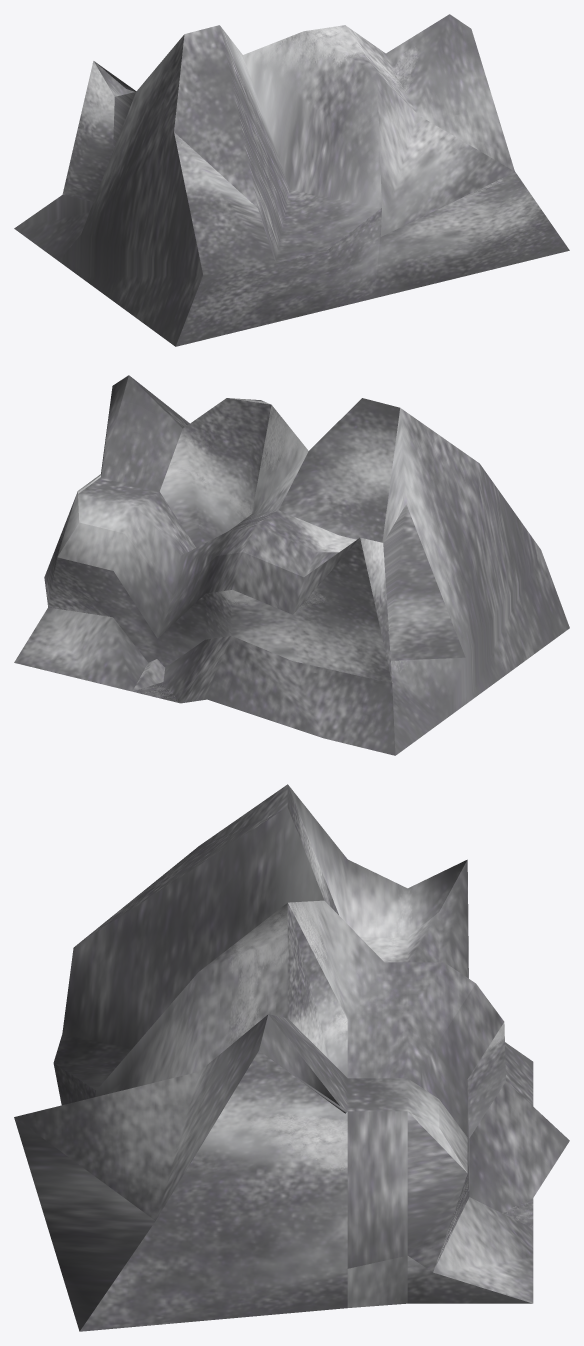
Rendered from Mountain27 - Level 1.FBX.
3 views of the same model, one above another, from view 1: azimuth 30°, elevation 25°; view 2: azimuth 150°, elevation 25°; view 3: azimuth 270°, elevation 25° (orthographic). The views are drawn at different scales.
Visible parts, largest first — view 1: Mountain 27; view 2: Mountain 27; view 3: Mountain 27.
Boxes of the visible parts, bbox=[...] form: Mountain 27: bbox=[14, 14, 569, 346]; Mountain 27: bbox=[14, 375, 569, 755]; Mountain 27: bbox=[14, 784, 569, 1331].
Bounding box in the file's own units: 171 × 98.66 × 148.
Materials: 1 (1 with a texture image).
